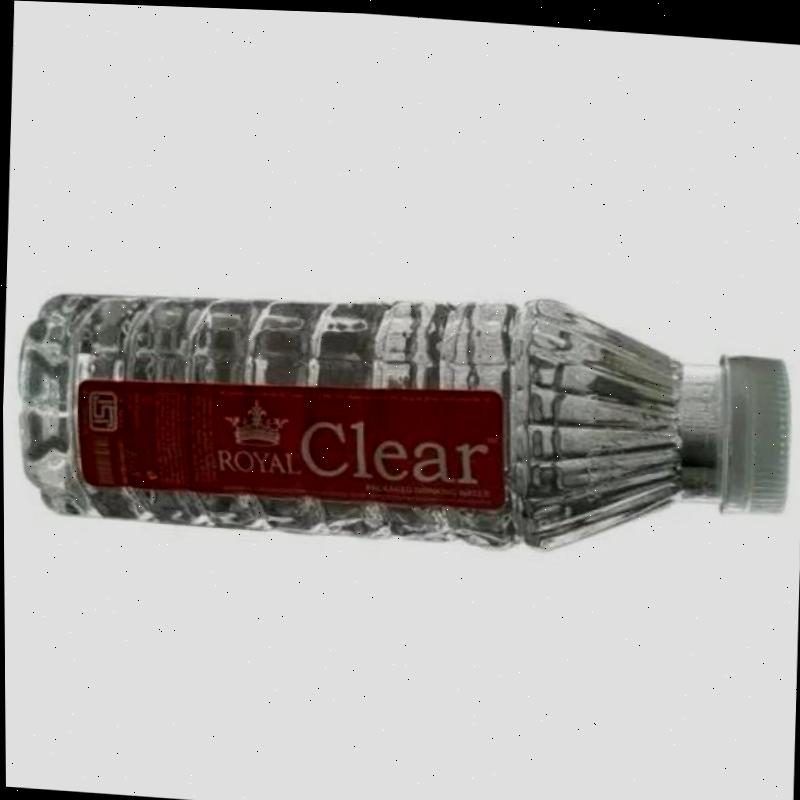botella: (13, 260, 792, 559)
